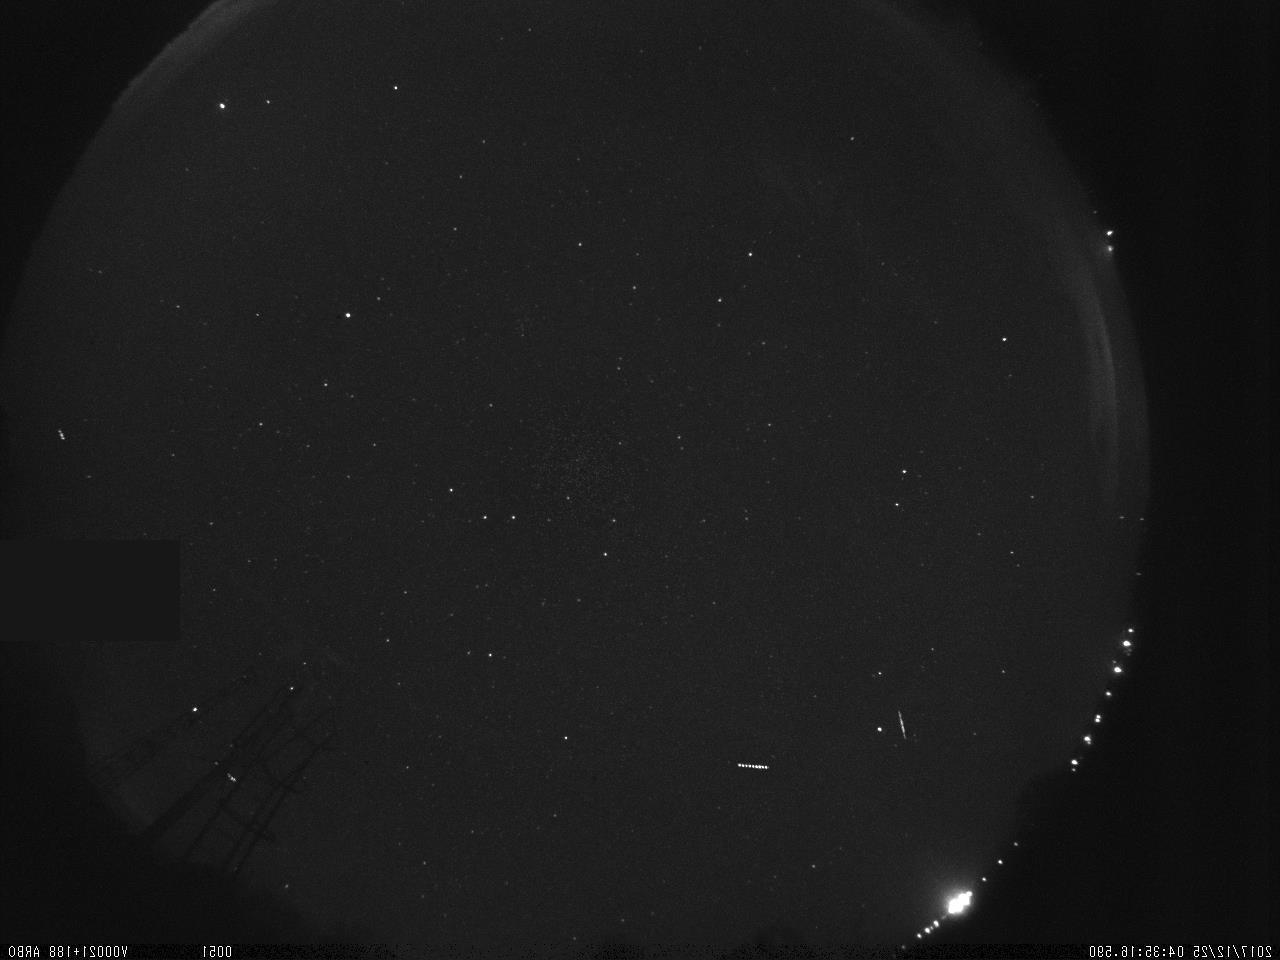meteor: (889, 701, 915, 749)
satelite: (728, 750, 777, 778)
